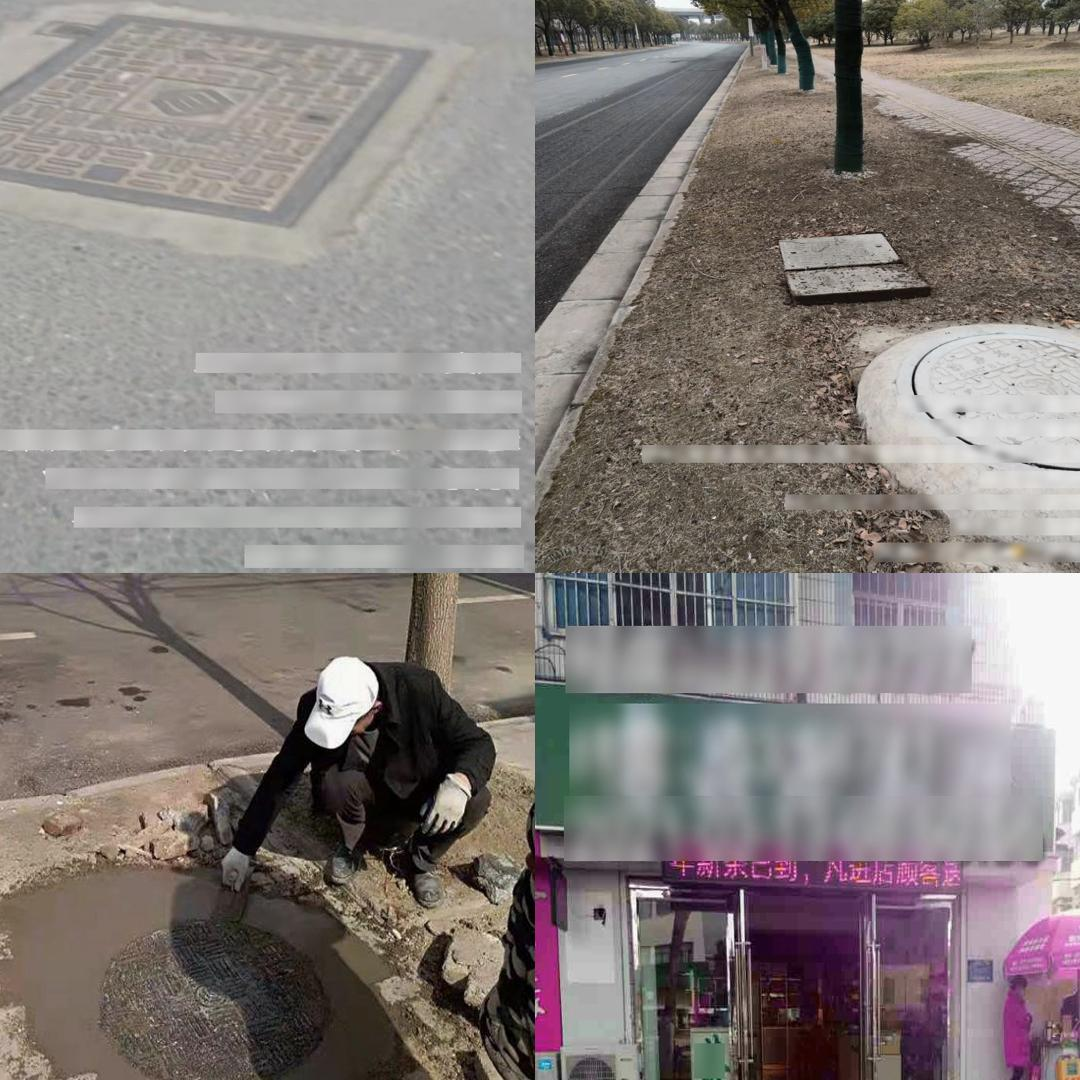good: (0, 3, 442, 220), (6, 863, 410, 1080), (902, 331, 1080, 474)
uncovered: (777, 231, 930, 302)
